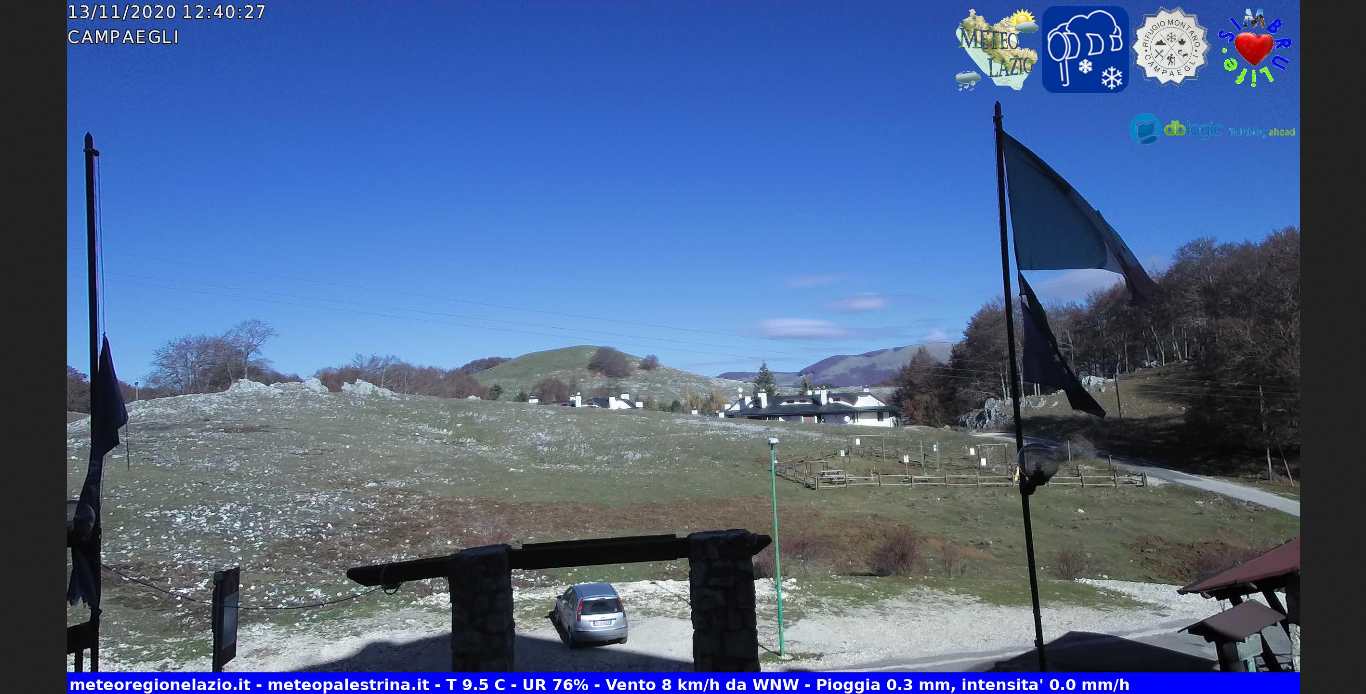maybe: (989, 103, 1176, 321), (990, 262, 1118, 429)
